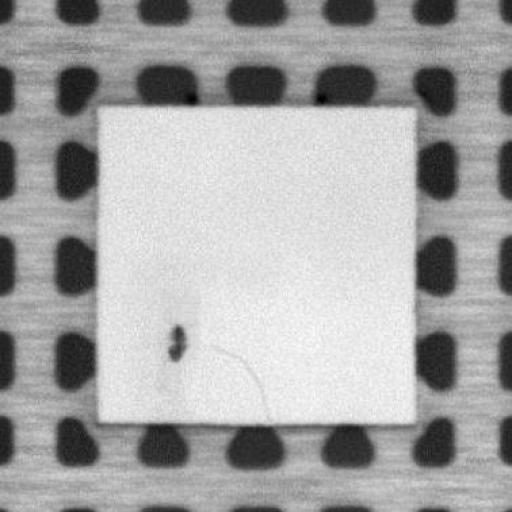DIE_CRACK: (218, 352, 270, 422)
DIE_INK: (164, 318, 184, 364)
